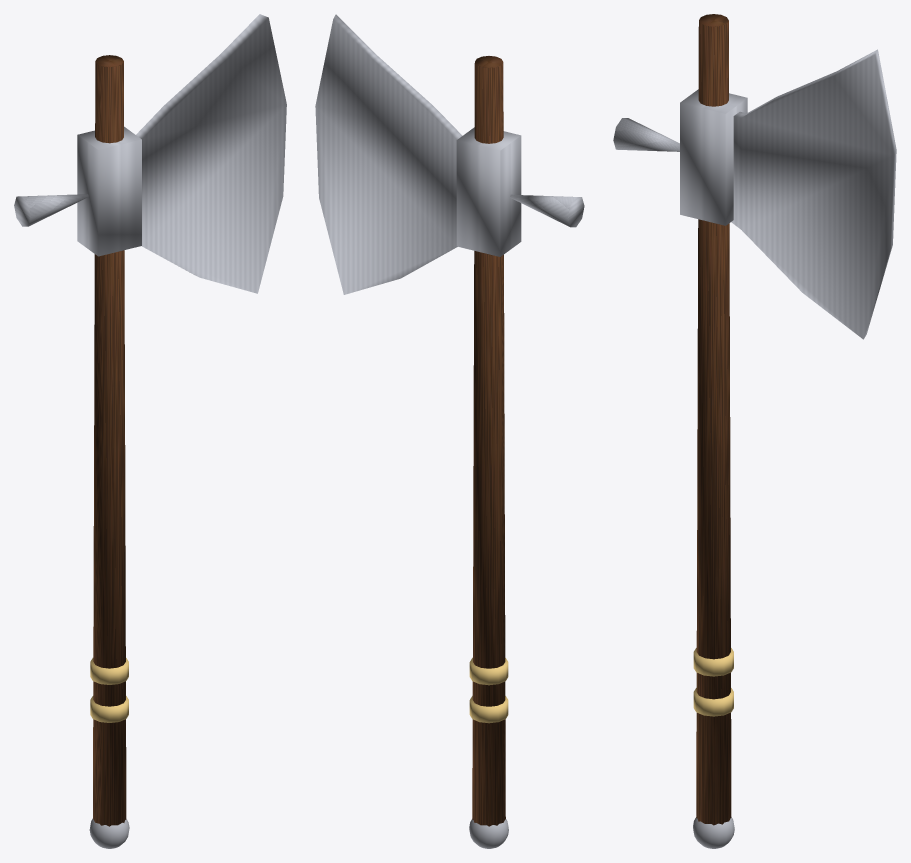
Rendered from W_axe.glb.
The picture shows the model from 3 angles, left to right: view 1: azimuth 30°, elevation 25°; view 2: azimuth 150°, elevation 25°; view 3: azimuth 330°, elevation 25°; orthographic projection. The views are drawn at different scales.
Visible parts, largest first — view 1: W_axe; view 2: W_axe; view 3: W_axe.
Part boxes in pixels (x1,y1,x2,y2): W_axe: (14, 14, 286, 848); W_axe: (315, 14, 584, 848); W_axe: (613, 14, 896, 848).
Size of the model in its own units: 0.36 by 1.04 by 0.05.
3 materials, 2 textured.
